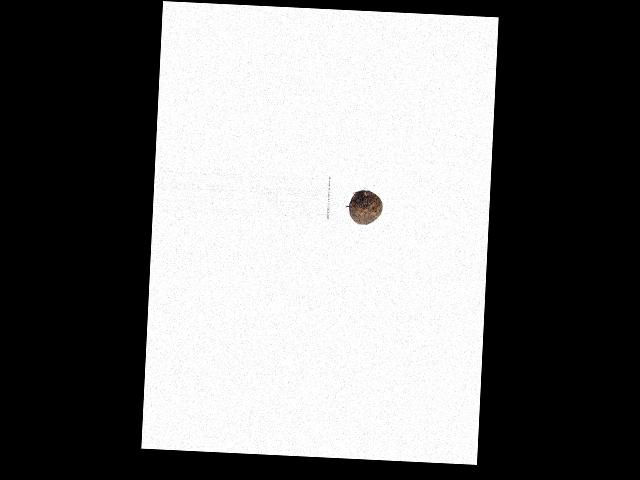beet: (348, 190, 382, 226)
